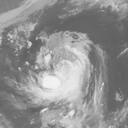cyclone: (24, 30, 93, 105)
